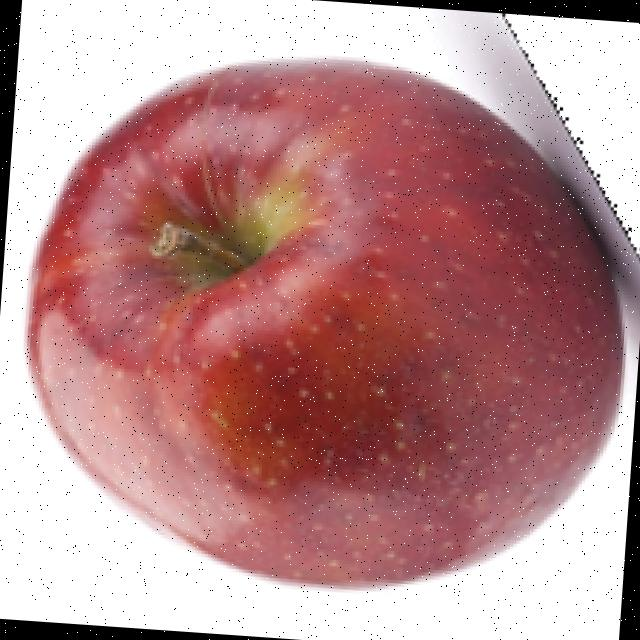apple: (18, 14, 640, 596)
